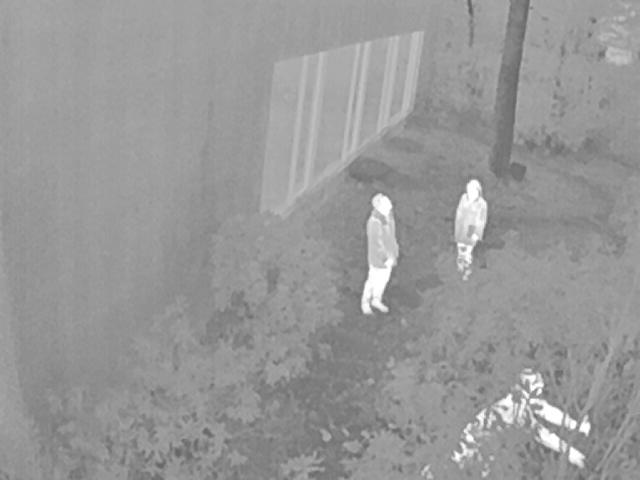person: (421, 367, 592, 474), (364, 191, 401, 312), (457, 180, 488, 280)
